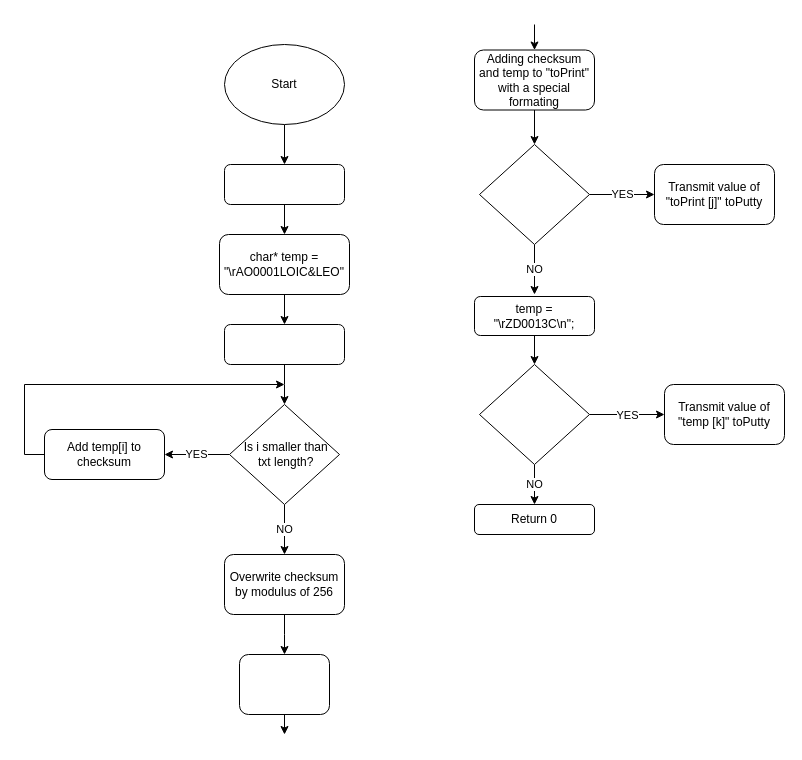
This 802x760 diagram has some shape labels left out. The centre of each missing label's shape, as x and y in pixels:
Initialise UART: point (284, 184)
int checksum = 0: point (284, 344)
Is j smaller than txt length+4?: point (534, 194)
Is k smaller than txt length?: point (534, 414)
New char array "toPrint": point (284, 684)
